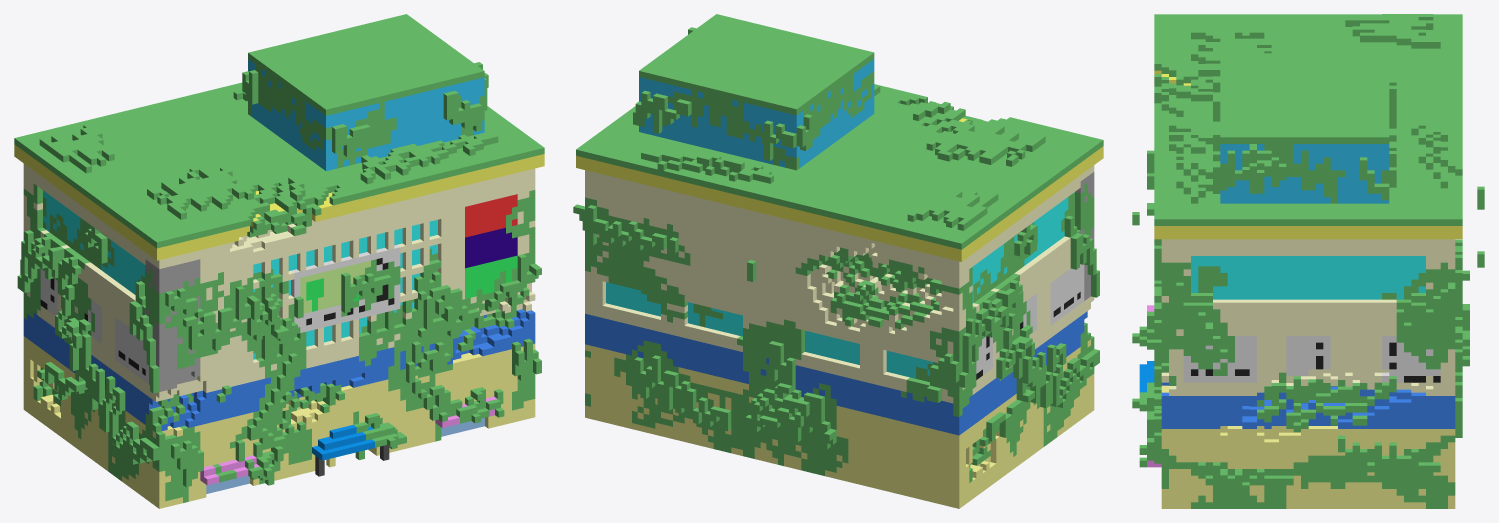
Rendered from department store.obj.
The picture shows the model from 3 angles, left to right: view 1: azimuth 30°, elevation 25°; view 2: azimuth 150°, elevation 25°; view 3: azimuth 270°, elevation 25°; orthographic projection. The views are drawn at different scales.
Size of the model in its own units: 6.8 by 5.4 by 4.8.
Materials: 1 (1 with a texture image).
